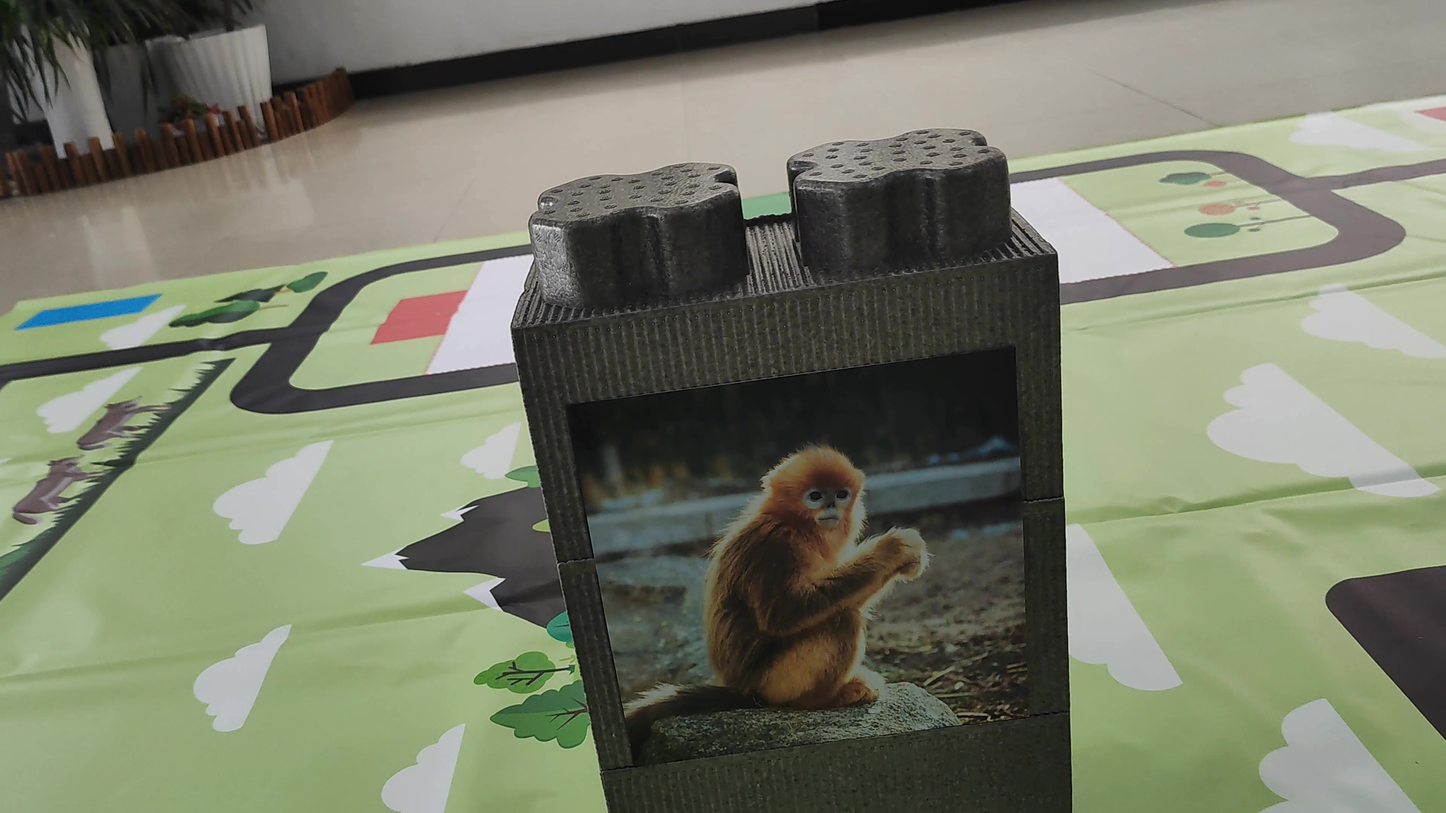monkey: (604, 403, 964, 741)
